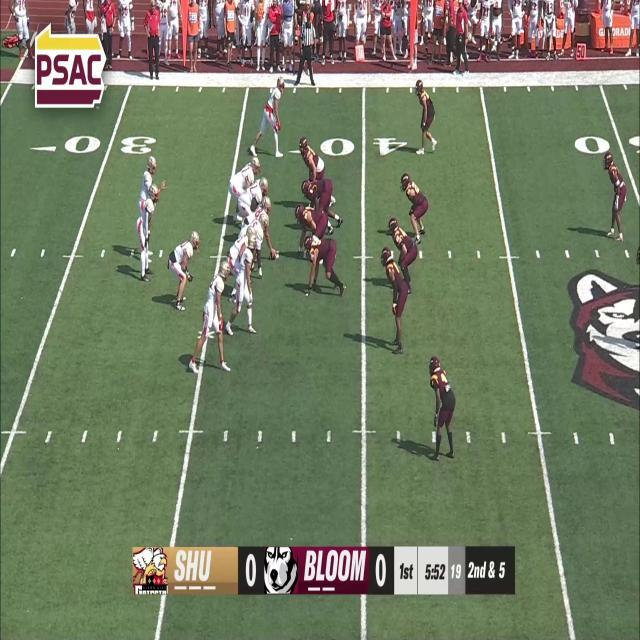football: (266, 250, 278, 262)
